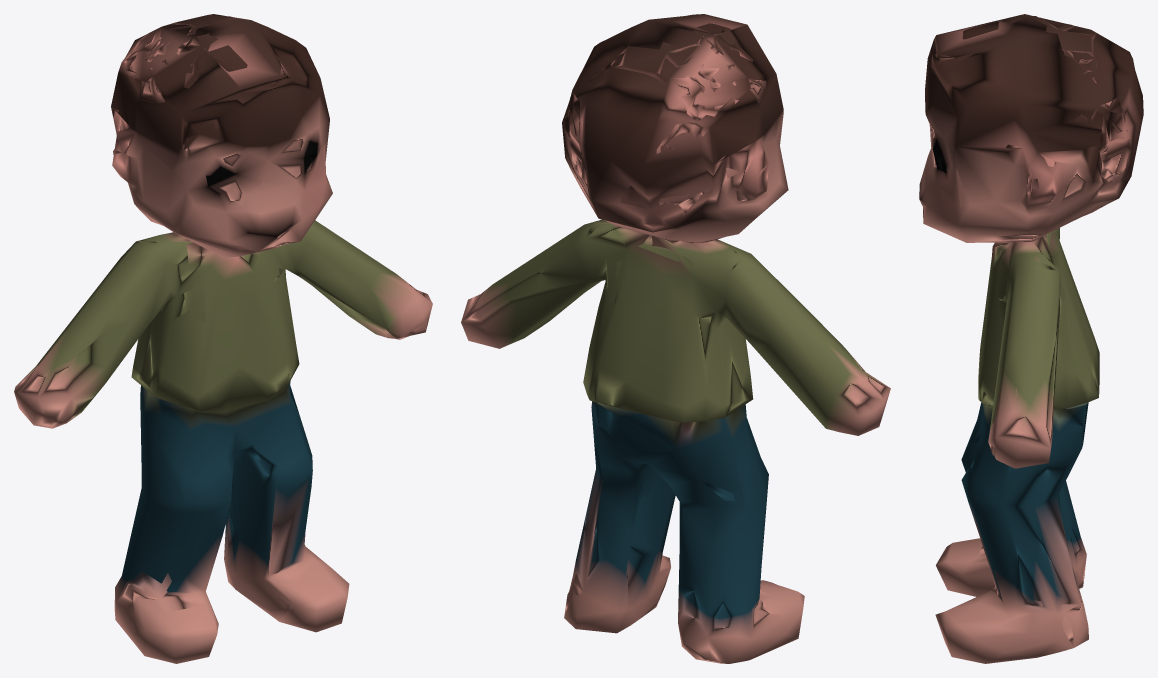
The model's file is gen3d-ragdoll-lod0.glb.
3 views of the same model, side by side, from view 1: azimuth 30°, elevation 25°; view 2: azimuth 150°, elevation 25°; view 3: azimuth 270°, elevation 25° (orthographic). The views are drawn at different scales.
Parts seen in each view (by area): view 1: part_0; view 2: part_0; view 3: part_0.
Part boxes in pixels (bbox=[...]): part_0: bbox=[14, 14, 432, 663]; part_0: bbox=[461, 14, 890, 663]; part_0: bbox=[919, 14, 1143, 663].
Bounding box in the file's own units: 0.7191 × 0.9968 × 0.3417.
